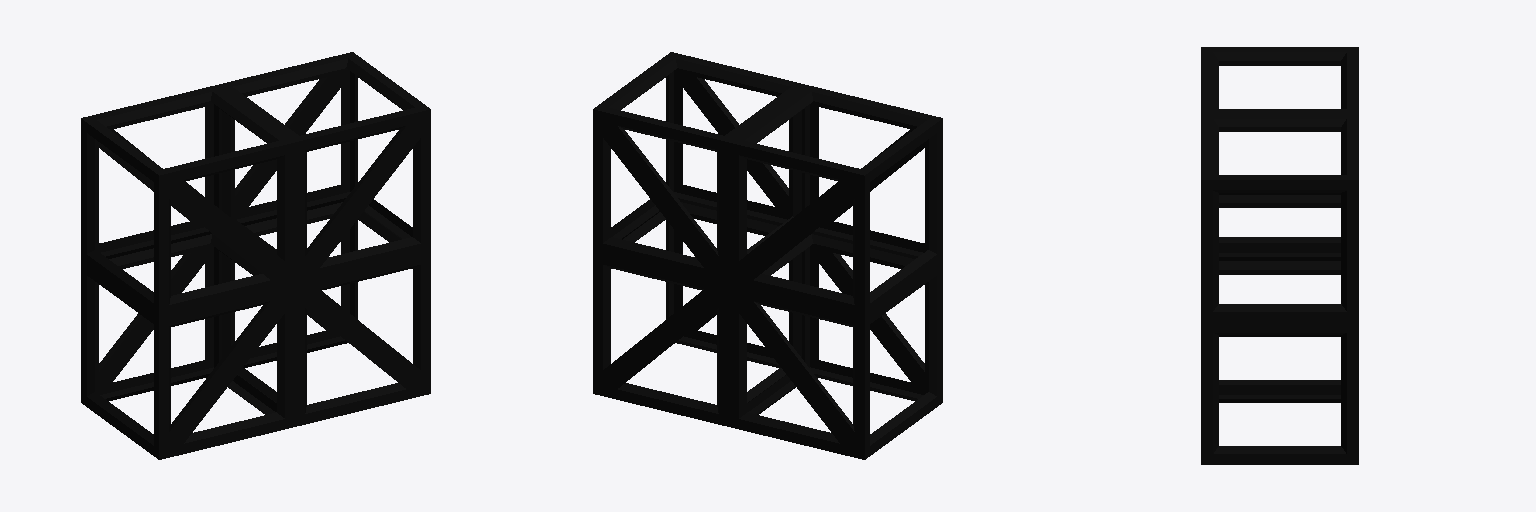
File: лестница.obj
The picture shows the model from 3 angles: view 1: azimuth 30°, elevation 25°; view 2: azimuth 150°, elevation 25°; view 3: azimuth 270°, elevation 25°; orthographic projection.
Visible parts, largest first — view 1: лесница; view 2: лесница; view 3: лесница.
Part boxes in pixels (left/top/right/bottom): лесница: left=81, top=52, right=430, bottom=459; лесница: left=593, top=52, right=942, bottom=459; лесница: left=1201, top=47, right=1358, bottom=464.
Size of the model in its own units: 3.57 by 3.57 by 1.78.